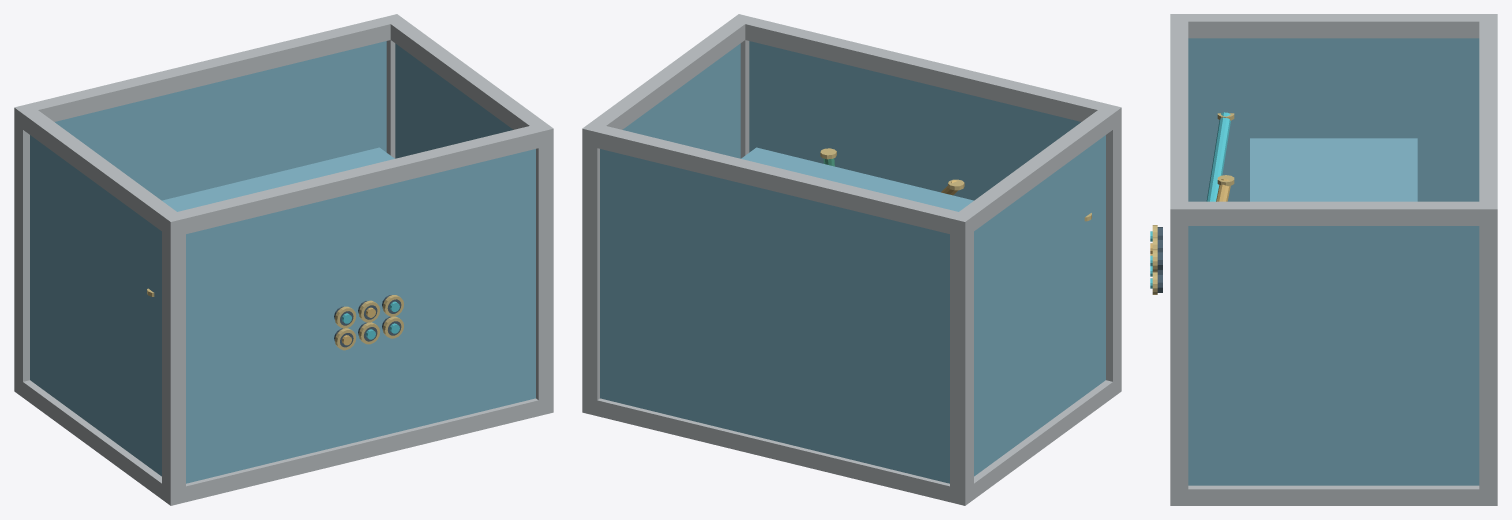
File: 33_L81_TripleModularMajorityVoter.glb
3 views of the same model, side by side, from view 1: azimuth 30°, elevation 25°; view 2: azimuth 150°, elevation 25°; view 3: azimuth 270°, elevation 25° (orthographic). The views are drawn at different scales.
Visible parts, largest first — view 1: TripleModularMajorityVoter_Node_0013, TripleModularMajorityVoter_Node_0014, TripleModularMajorityVoter_Node_0012, TripleModularMajorityVoter_Node_0009, TripleModularMajorityVoter_Node_0008, TripleModularMajorityVoter_Node_0005, TripleModularMajorityVoter_Node_0015, TripleModularMajorityVoter_Node_0001, TripleModularMajorityVoter_Node_0003, TripleModularMajorityVoter_Node_0010, TripleModularMajorityVoter_Node_0000, TripleModularMajorityVoter_Node_0011 (+3 smaller); view 2: TripleModularMajorityVoter_Node_0012, TripleModularMajorityVoter_Node_0014, TripleModularMajorityVoter_Node_0013, TripleModularMajorityVoter_Node_0008, TripleModularMajorityVoter_Node_0009, TripleModularMajorityVoter_Node_0004, TripleModularMajorityVoter_Node_0015, TripleModularMajorityVoter_Node_0000, TripleModularMajorityVoter_Node_0002, TripleModularMajorityVoter_Node_0010, TripleModularMajorityVoter_Node_0011, TripleModularMajorityVoter_Node_0001 (+3 smaller); view 3: TripleModularMajorityVoter_Node_0015, TripleModularMajorityVoter_Node_0014, TripleModularMajorityVoter_Node_0016, TripleModularMajorityVoter_Node_0011, TripleModularMajorityVoter_Node_0010, TripleModularMajorityVoter_Node_0007, TripleModularMajorityVoter_Node_0002, TripleModularMajorityVoter_Node_0003, TripleModularMajorityVoter_Node_0008, TripleModularMajorityVoter_Node_0009, TripleModularMajorityVoter_Node_0017.
Boxes of the visible parts, x1=… form: TripleModularMajorityVoter_Node_0013: x1=186, y1=149, x2=535, y2=483; TripleModularMajorityVoter_Node_0014: x1=30, y1=135, x2=161, y2=476; TripleModularMajorityVoter_Node_0012: x1=55, y1=41, x2=386, y2=200; TripleModularMajorityVoter_Node_0009: x1=162, y1=123, x2=552, y2=237; TripleModularMajorityVoter_Node_0008: x1=14, y1=14, x2=404, y2=128; TripleModularMajorityVoter_Node_0005: x1=166, y1=397, x2=553, y2=505; TripleModularMajorityVoter_Node_0015: x1=395, y1=43, x2=513, y2=158; TripleModularMajorityVoter_Node_0001: x1=162, y1=212, x2=185, y2=505; TripleModularMajorityVoter_Node_0003: x1=530, y1=122, x2=553, y2=413; TripleModularMajorityVoter_Node_0010: x1=15, y1=104, x2=185, y2=237; TripleModularMajorityVoter_Node_0000: x1=14, y1=104, x2=37, y2=397; TripleModularMajorityVoter_Node_0011: x1=387, y1=15, x2=553, y2=144; TripleModularMajorityVoter_Node_0012: x1=600, y1=149, x2=949, y2=483; TripleModularMajorityVoter_Node_0014: x1=974, y1=135, x2=1105, y2=476; TripleModularMajorityVoter_Node_0013: x1=749, y1=41, x2=1080, y2=200; TripleModularMajorityVoter_Node_0008: x1=582, y1=123, x2=973, y2=236; TripleModularMajorityVoter_Node_0009: x1=730, y1=14, x2=1121, y2=121; TripleModularMajorityVoter_Node_0004: x1=582, y1=398, x2=972, y2=505; TripleModularMajorityVoter_Node_0015: x1=622, y1=43, x2=740, y2=158; TripleModularMajorityVoter_Node_0000: x1=950, y1=212, x2=973, y2=505; TripleModularMajorityVoter_Node_0002: x1=582, y1=122, x2=604, y2=415; TripleModularMajorityVoter_Node_0010: x1=954, y1=104, x2=1121, y2=237; TripleModularMajorityVoter_Node_0011: x1=583, y1=16, x2=752, y2=146; TripleModularMajorityVoter_Node_0001: x1=1103, y1=104, x2=1121, y2=393; TripleModularMajorityVoter_Node_0015: x1=1188, y1=226, x2=1479, y2=485; TripleModularMajorityVoter_Node_0014: x1=1188, y1=38, x2=1479, y2=201; TripleModularMajorityVoter_Node_0016: x1=1250, y1=138, x2=1417, y2=201; TripleModularMajorityVoter_Node_0011: x1=1170, y1=201, x2=1497, y2=225; TripleModularMajorityVoter_Node_0010: x1=1171, y1=14, x2=1496, y2=38; TripleModularMajorityVoter_Node_0007: x1=1170, y1=485, x2=1496, y2=505; TripleModularMajorityVoter_Node_0002: x1=1479, y1=201, x2=1497, y2=505; TripleModularMajorityVoter_Node_0003: x1=1170, y1=201, x2=1188, y2=505; TripleModularMajorityVoter_Node_0008: x1=1479, y1=14, x2=1497, y2=225; TripleModularMajorityVoter_Node_0009: x1=1170, y1=14, x2=1188, y2=225; TripleModularMajorityVoter_Node_0017: x1=1206, y1=112, x2=1230, y2=201.
Bounding box in the file's own units: 2.4 × 1.7 × 1.8.
